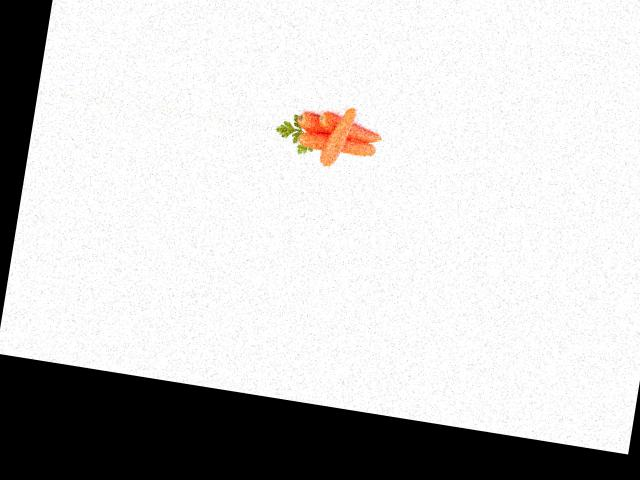carrot: (295, 109, 372, 146)
